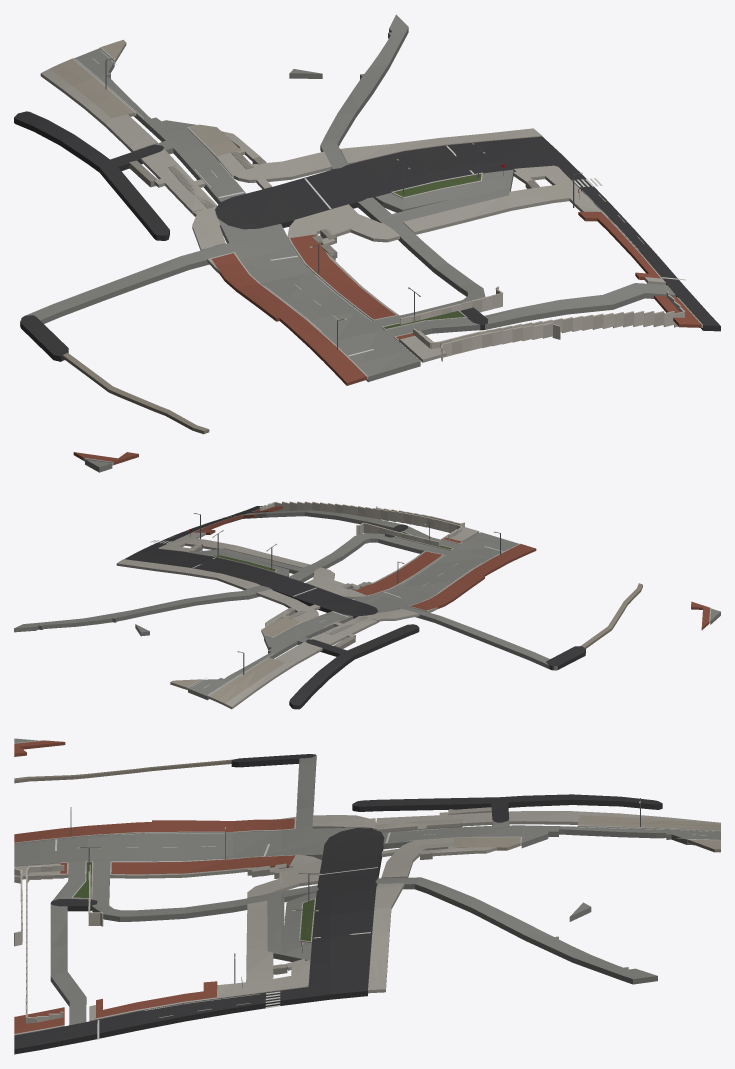
Rendered from 18-218883-118953.fce88c88.glb.
3 views of the same model, one above another, from view 1: azimuth 30°, elevation 25°; view 2: azimuth 150°, elevation 25°; view 3: azimuth 270°, elevation 25° (orthographic). The views are drawn at different scales.
Size of the model in its own units: 149 by 25.48 by 146.
